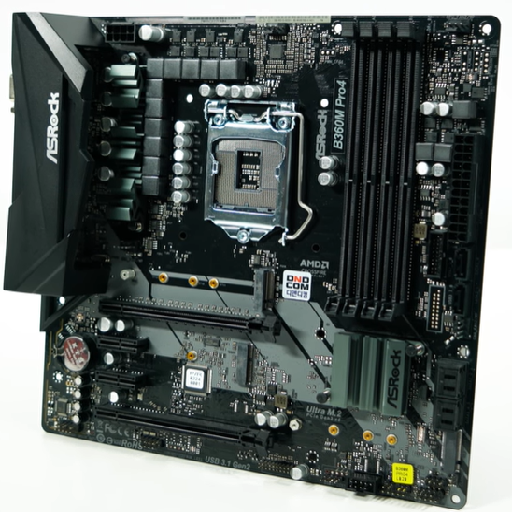CPU: (194, 86, 311, 249)
GPU: (96, 292, 283, 347), (89, 400, 270, 454)
MOTHERBOARD: (2, 10, 503, 512)
RAM: (321, 18, 438, 335)
SSD: (247, 247, 282, 315), (225, 330, 260, 398)
